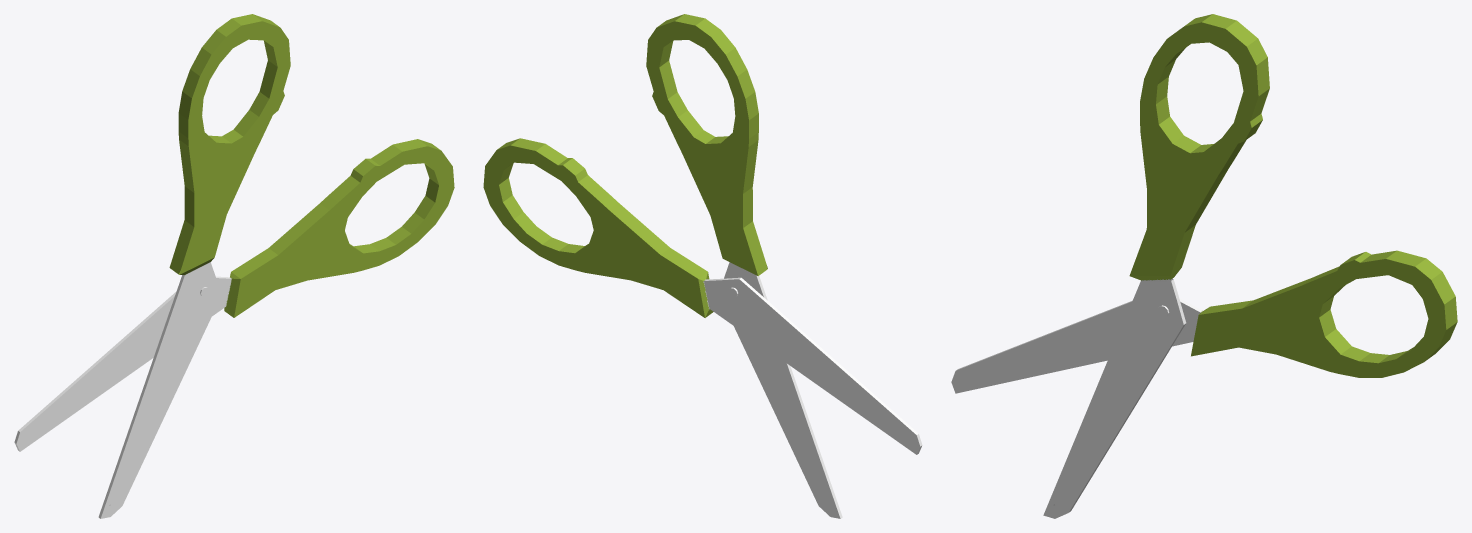
Rendered from Scissor.fbx.
The picture shows the model from 3 angles, left to right: view 1: azimuth 30°, elevation 25°; view 2: azimuth 150°, elevation 25°; view 3: azimuth 330°, elevation 25°; orthographic projection. The views are drawn at different scales.
Visible parts, largest first — view 1: polySurface2, polySurface1; view 2: polySurface1, polySurface2; view 3: polySurface2, polySurface1.
Part boxes in pixels (bbox=[...]): polySurface2: bbox=[98, 14, 290, 518]; polySurface1: bbox=[14, 139, 454, 451]; polySurface1: bbox=[483, 138, 922, 454]; polySurface2: bbox=[646, 14, 842, 518]; polySurface2: bbox=[1043, 14, 1269, 518]; polySurface1: bbox=[951, 250, 1457, 393].
Size of the model in its own units: 13.09 by 13.35 by 0.5612.
1 material, 1 textured.
